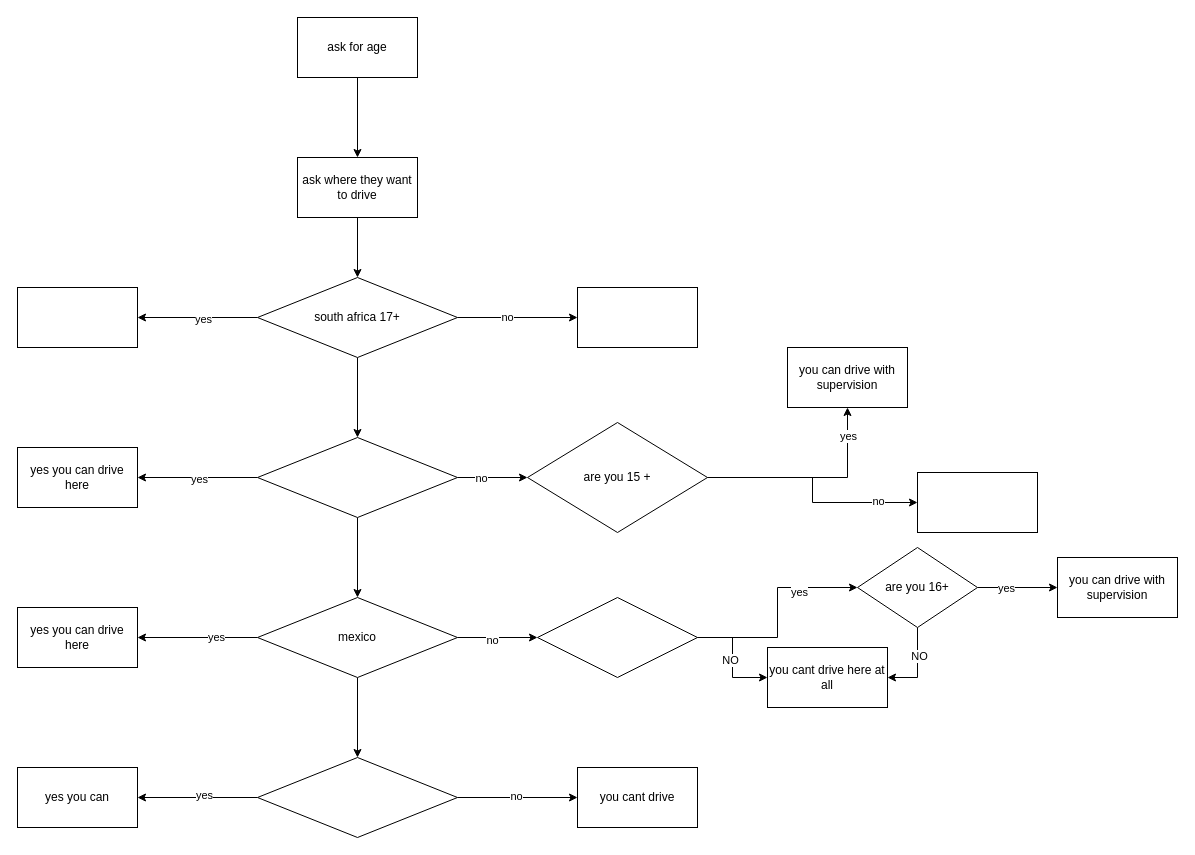
Some shapes in this 1195 by 855 pixel diagram are drawn without their labels. The shapes that lost their labels are listed below. From the top down, each one's box as (x1, y1, x2, y2) in pixels, then its label:
(16, 286, 138, 348): you can drive here
(576, 286, 698, 348): you cant drive here
(256, 436, 458, 518): france 17+
(916, 472, 1038, 532): you cant drive at all here
(536, 596, 698, 678): are you 15+
(256, 756, 458, 838): india 18+
